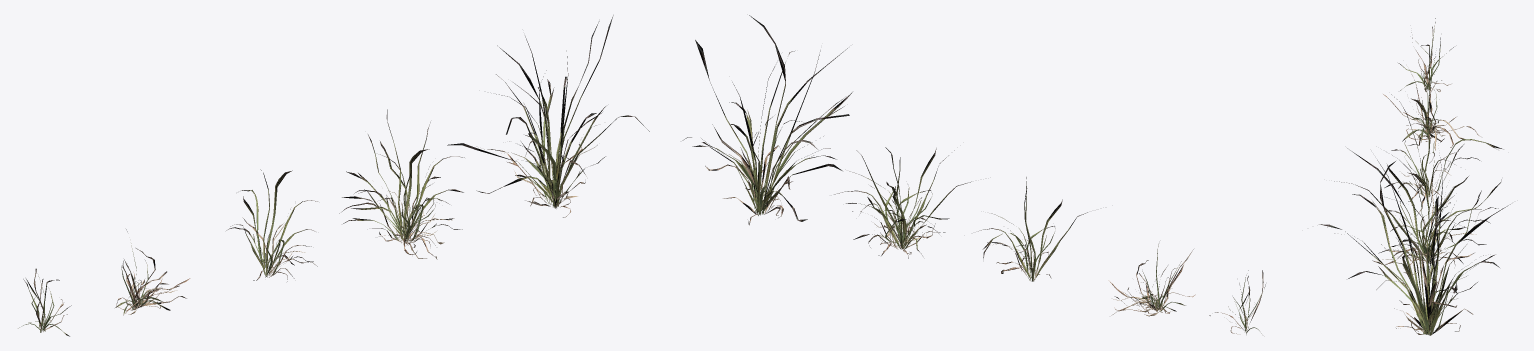
Rendered from grass_medium_02-high.glb.
The picture shows the model from 3 angles, left to right: view 1: azimuth 30°, elevation 25°; view 2: azimuth 150°, elevation 25°; view 3: azimuth 270°, elevation 25°; orthographic projection. The views are drawn at different scales.
Visible parts, largest first — view 1: grass_medium_02_e, grass_medium_02_d, grass_medium_02_c, grass_medium_02_b, grass_medium_02_a; view 2: grass_medium_02_e, grass_medium_02_d, grass_medium_02_c, grass_medium_02_b, grass_medium_02_a; view 3: grass_medium_02_e, grass_medium_02_d, grass_medium_02_c, grass_medium_02_b, grass_medium_02_a.
Part boxes in pixels (left/top/right/bottom): grass_medium_02_e: left=447, top=15, right=649, bottom=217; grass_medium_02_d: left=339, top=109, right=464, bottom=259; grass_medium_02_c: left=226, top=169, right=317, bottom=281; grass_medium_02_b: left=115, top=229, right=190, bottom=315; grass_medium_02_a: left=18, top=268, right=71, bottom=336; grass_medium_02_e: left=682, top=15, right=852, bottom=225; grass_medium_02_d: left=834, top=147, right=971, bottom=258; grass_medium_02_c: left=978, top=177, right=1087, bottom=281; grass_medium_02_b: left=1108, top=244, right=1195, bottom=316; grass_medium_02_a: left=1209, top=270, right=1265, bottom=334; grass_medium_02_e: left=1319, top=148, right=1510, bottom=335; grass_medium_02_d: left=1334, top=144, right=1502, bottom=274; grass_medium_02_c: left=1384, top=94, right=1503, bottom=214; grass_medium_02_b: left=1383, top=54, right=1480, bottom=150; grass_medium_02_a: left=1398, top=18, right=1453, bottom=91.
Bounding box in the file's own units: 1.31 × 0.4053 × 0.4318.
Materials: 1 (1 with a texture image).
